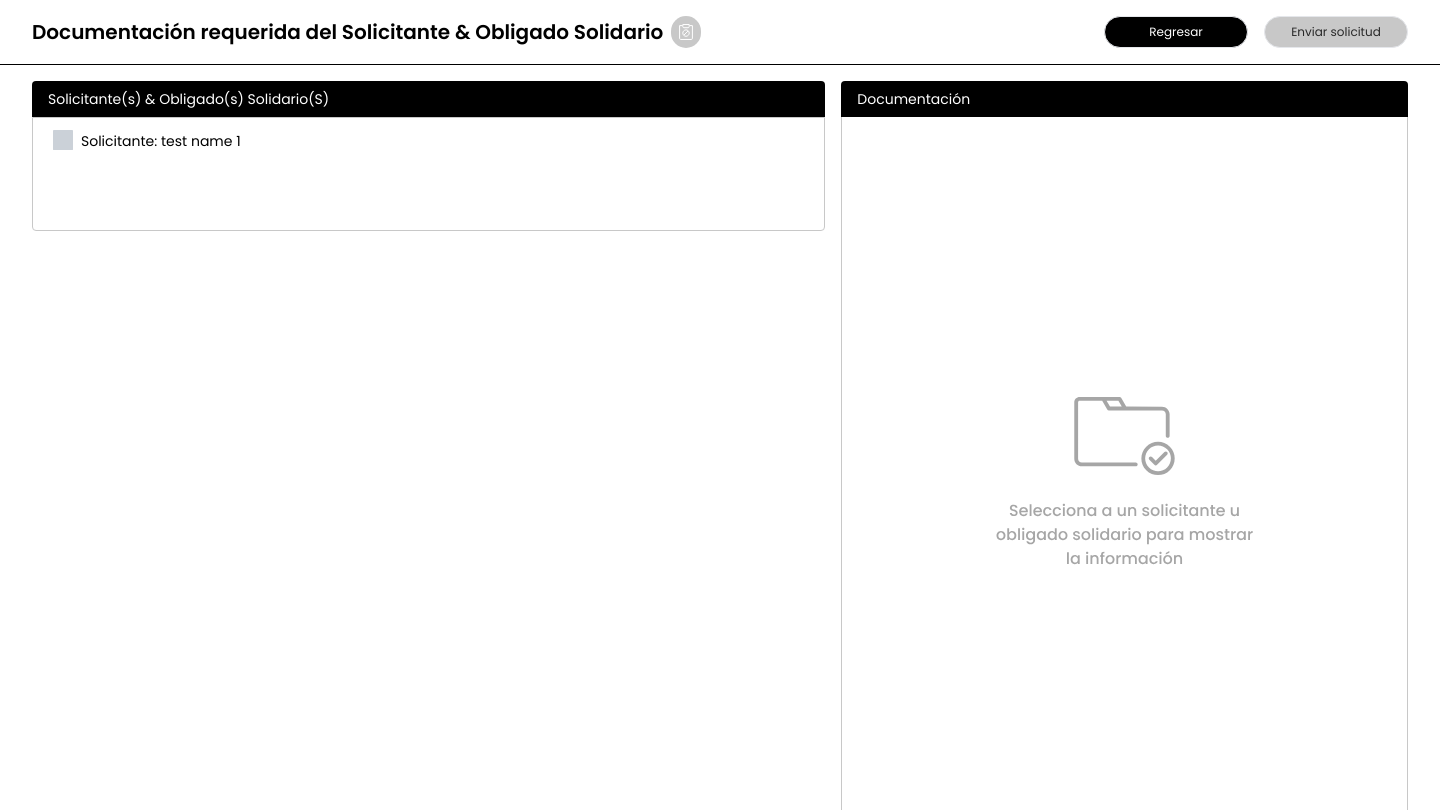
Documentation page › when clicking on a applicant or OS from the list it should show a error modal if the requests response has an error
Click the radio button labelled "Solicitante: test name 1": coordinates (63, 140) [53,130,73,150]
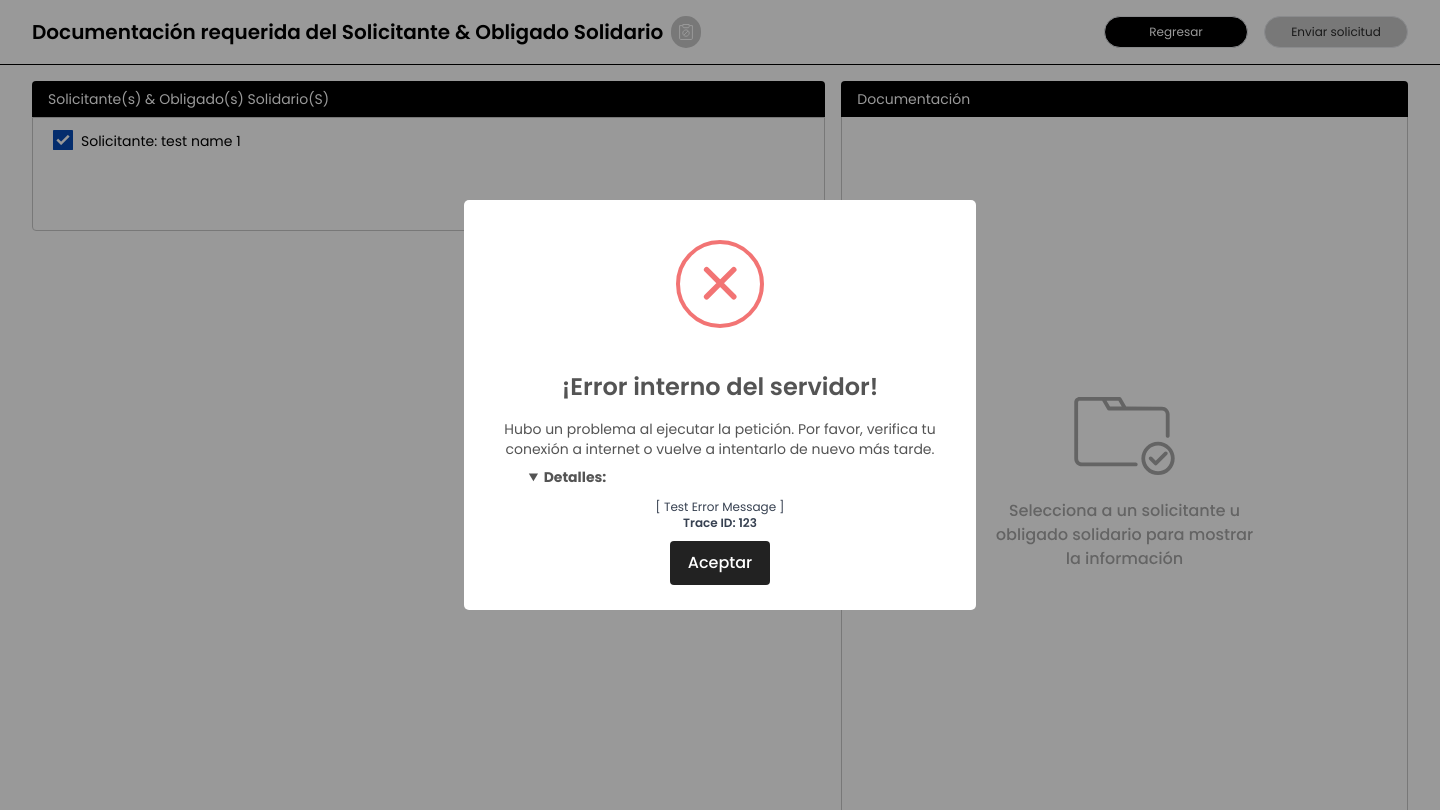
Result: the heading "¡Error interno del servidor!" is shown at [562,370,878,403]
Result: the text "[ Test Error Message ]" is shown at [656,498,784,515]
